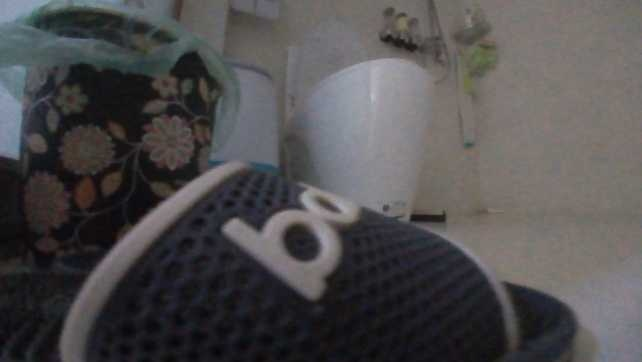toilet: (272, 13, 428, 221)
trash_can: (3, 1, 240, 275)
